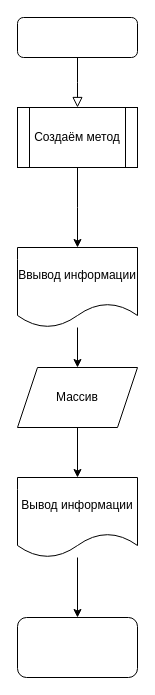
Image size: 155x695. Some labels were removed from this diagram. The centre of each missing label's shape, as x and y in pixels:
"Итог" belongs at pixel 77 647.
"Начало" belongs at pixel 77 37.
